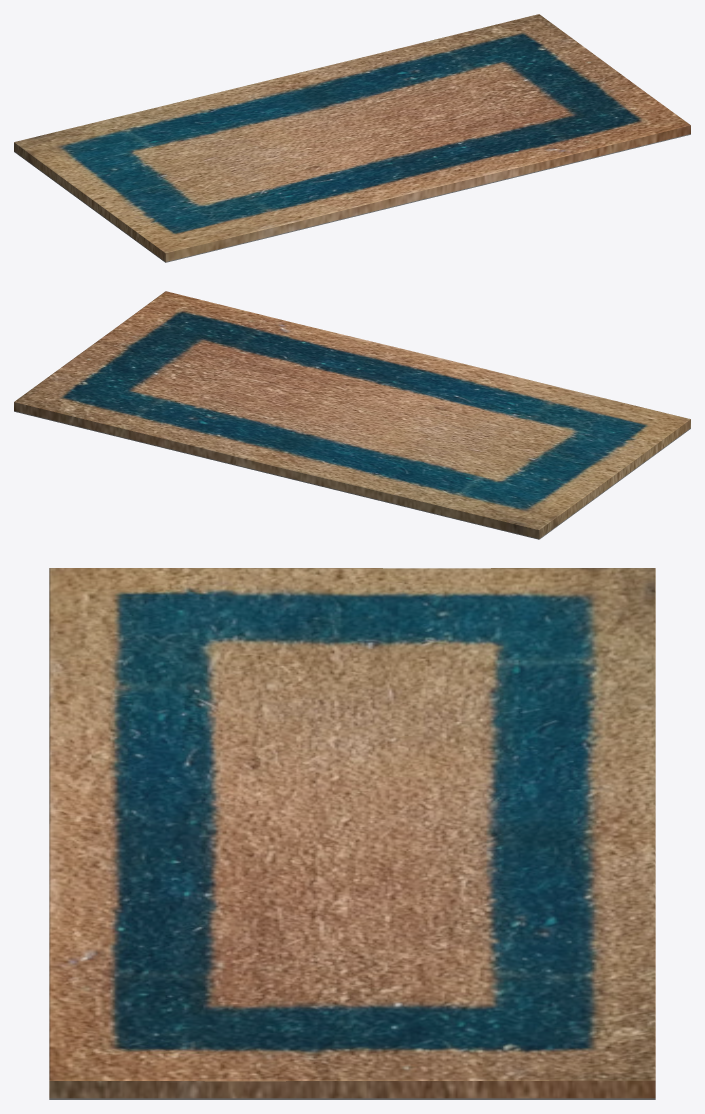
File: sweethome3d-scopia-doormat-342.glb
3 views of the same model, one above another, from view 1: azimuth 30°, elevation 25°; view 2: azimuth 150°, elevation 25°; view 3: azimuth 270°, elevation 25° (orthographic). The views are drawn at different scales.
Visible parts, largest first — view 1: doormat_Cube.001, rubber_Cube.002; view 2: doormat_Cube.001, rubber_Cube.002; view 3: doormat_Cube.001, rubber_Cube.002.
Part boxes in pixels (x1,y1,x2,y2): doormat_Cube.001: (14,14,690,261); rubber_Cube.002: (14,134,690,262); doormat_Cube.001: (14,291,690,538); rubber_Cube.002: (14,411,690,539); doormat_Cube.001: (49,568,655,1098); rubber_Cube.002: (49,1098,655,1099).
Size of the model in its own units: 60 by 1.09 by 30.
2 materials, 1 textured.
